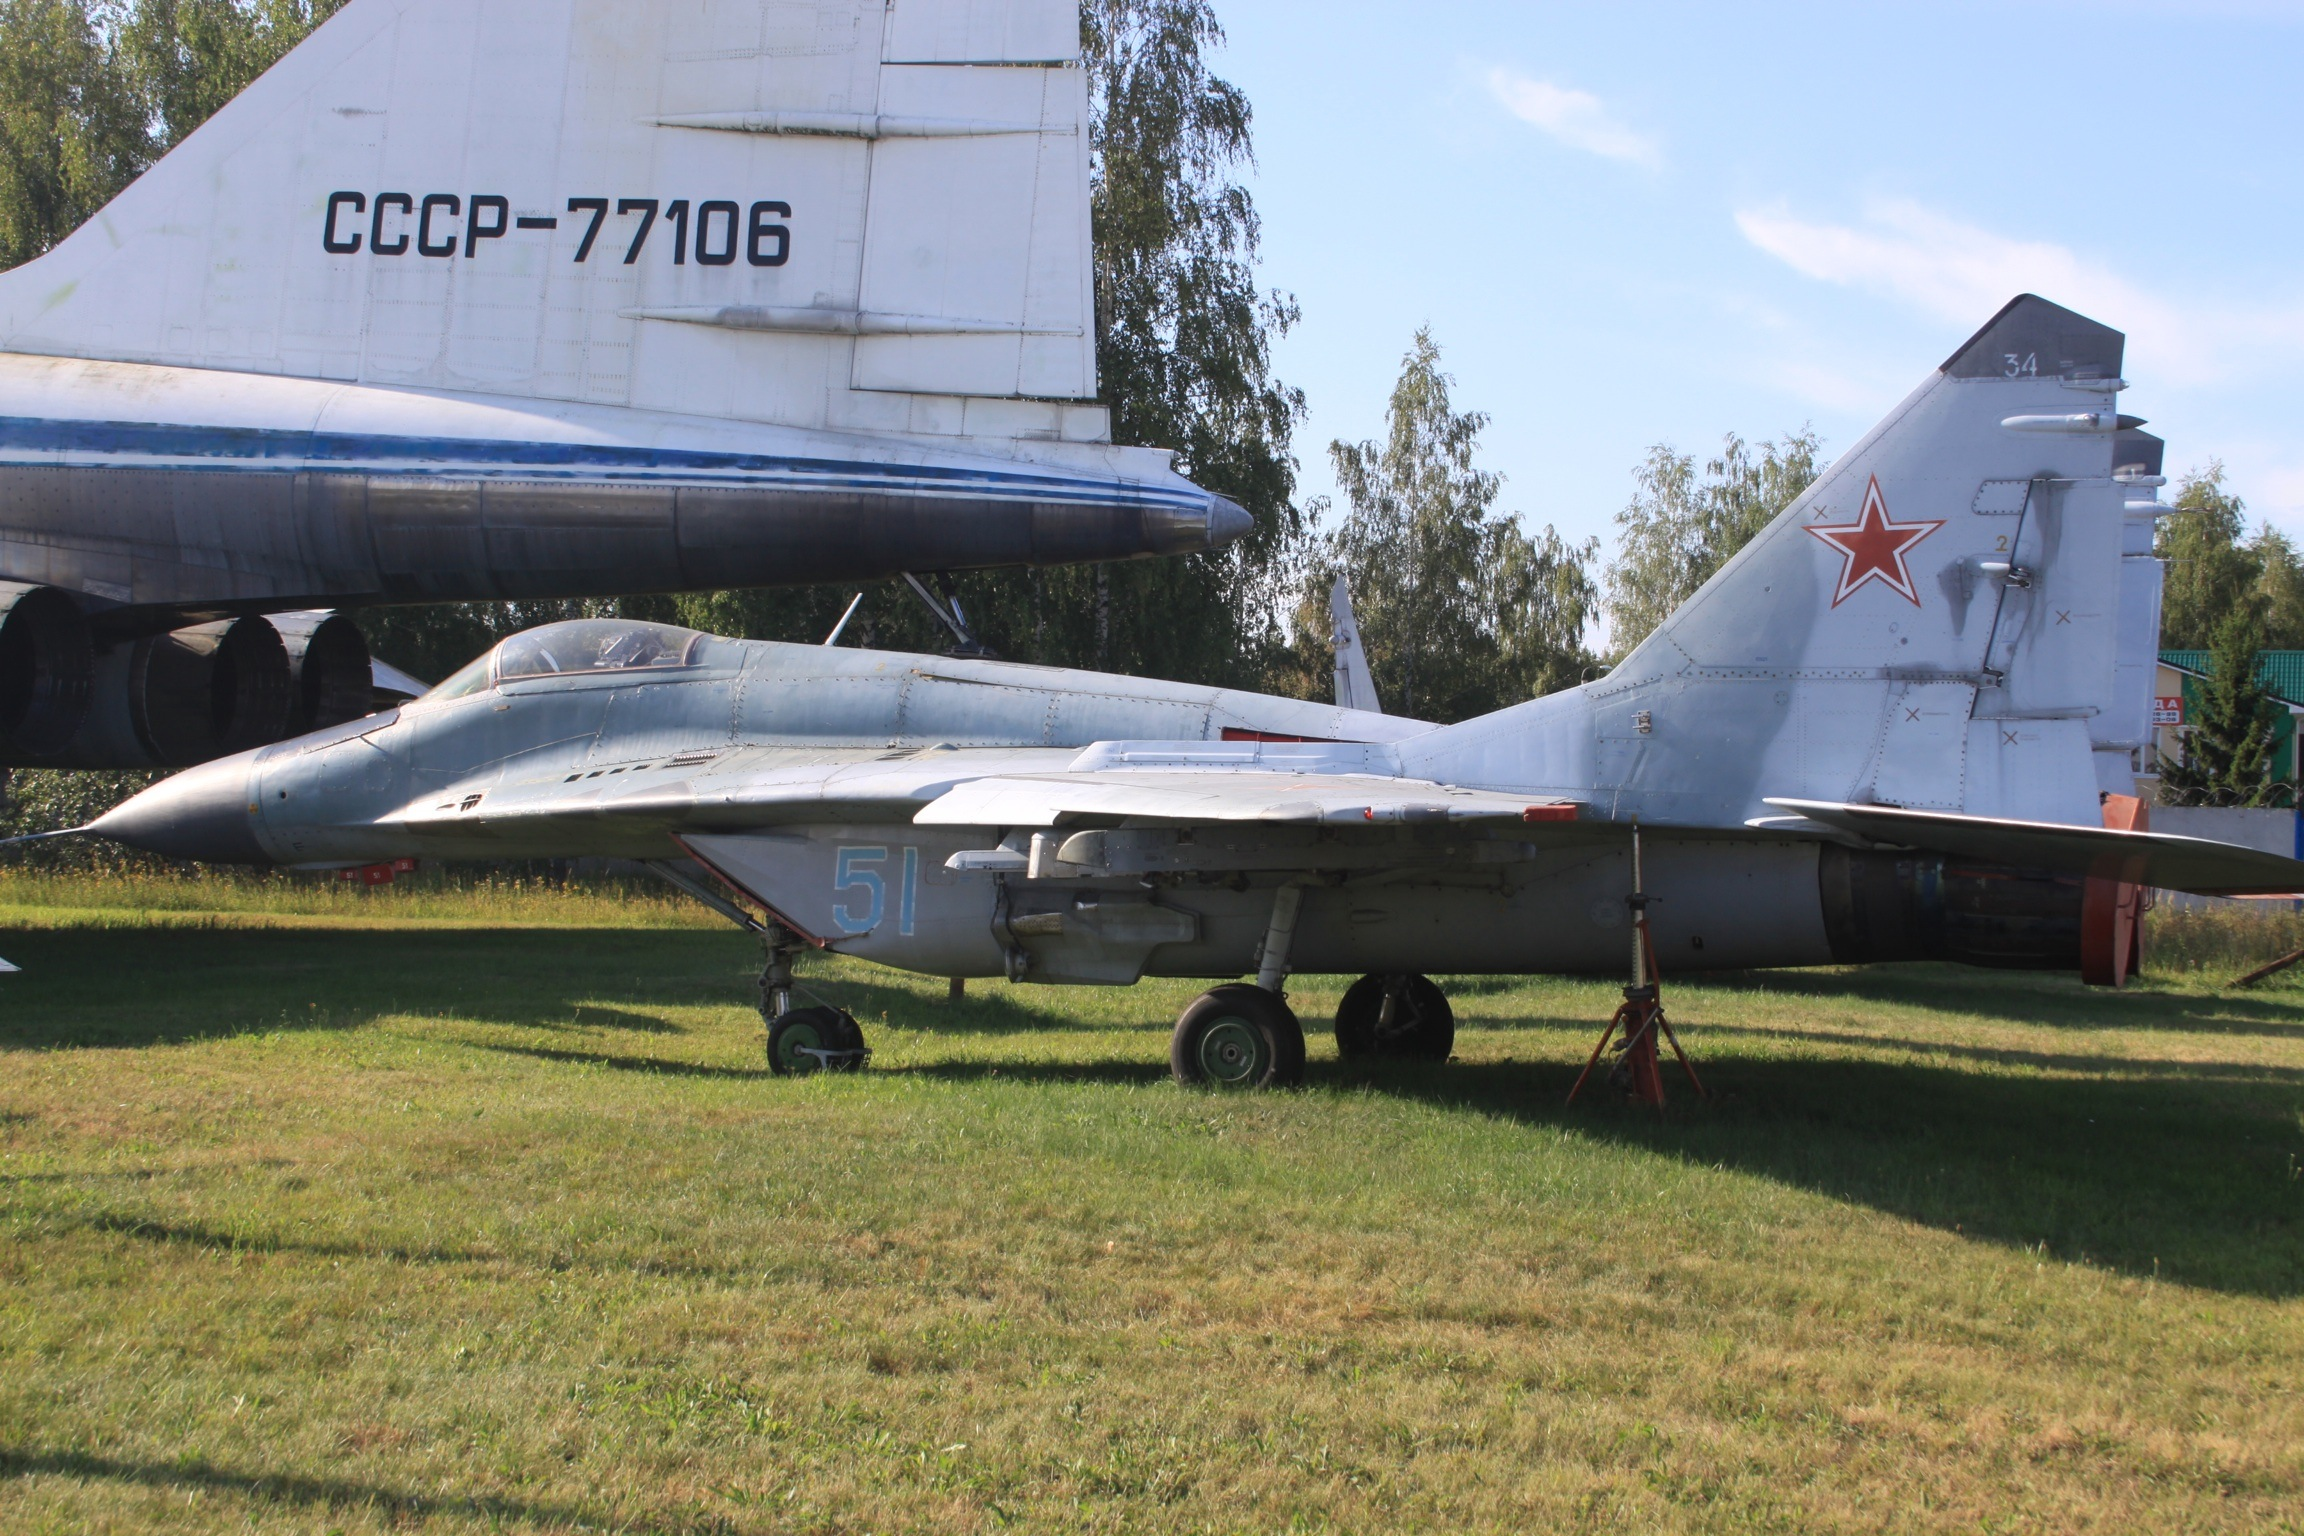Mig-29: (81, 319, 2249, 1135)
